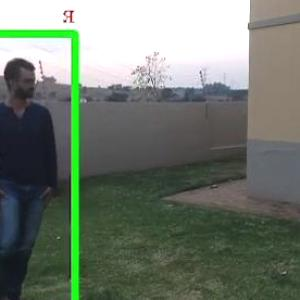follow: (1, 49, 70, 299)
